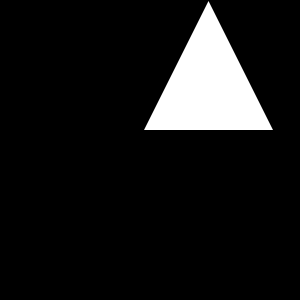triangle: (144, 1, 273, 130)
